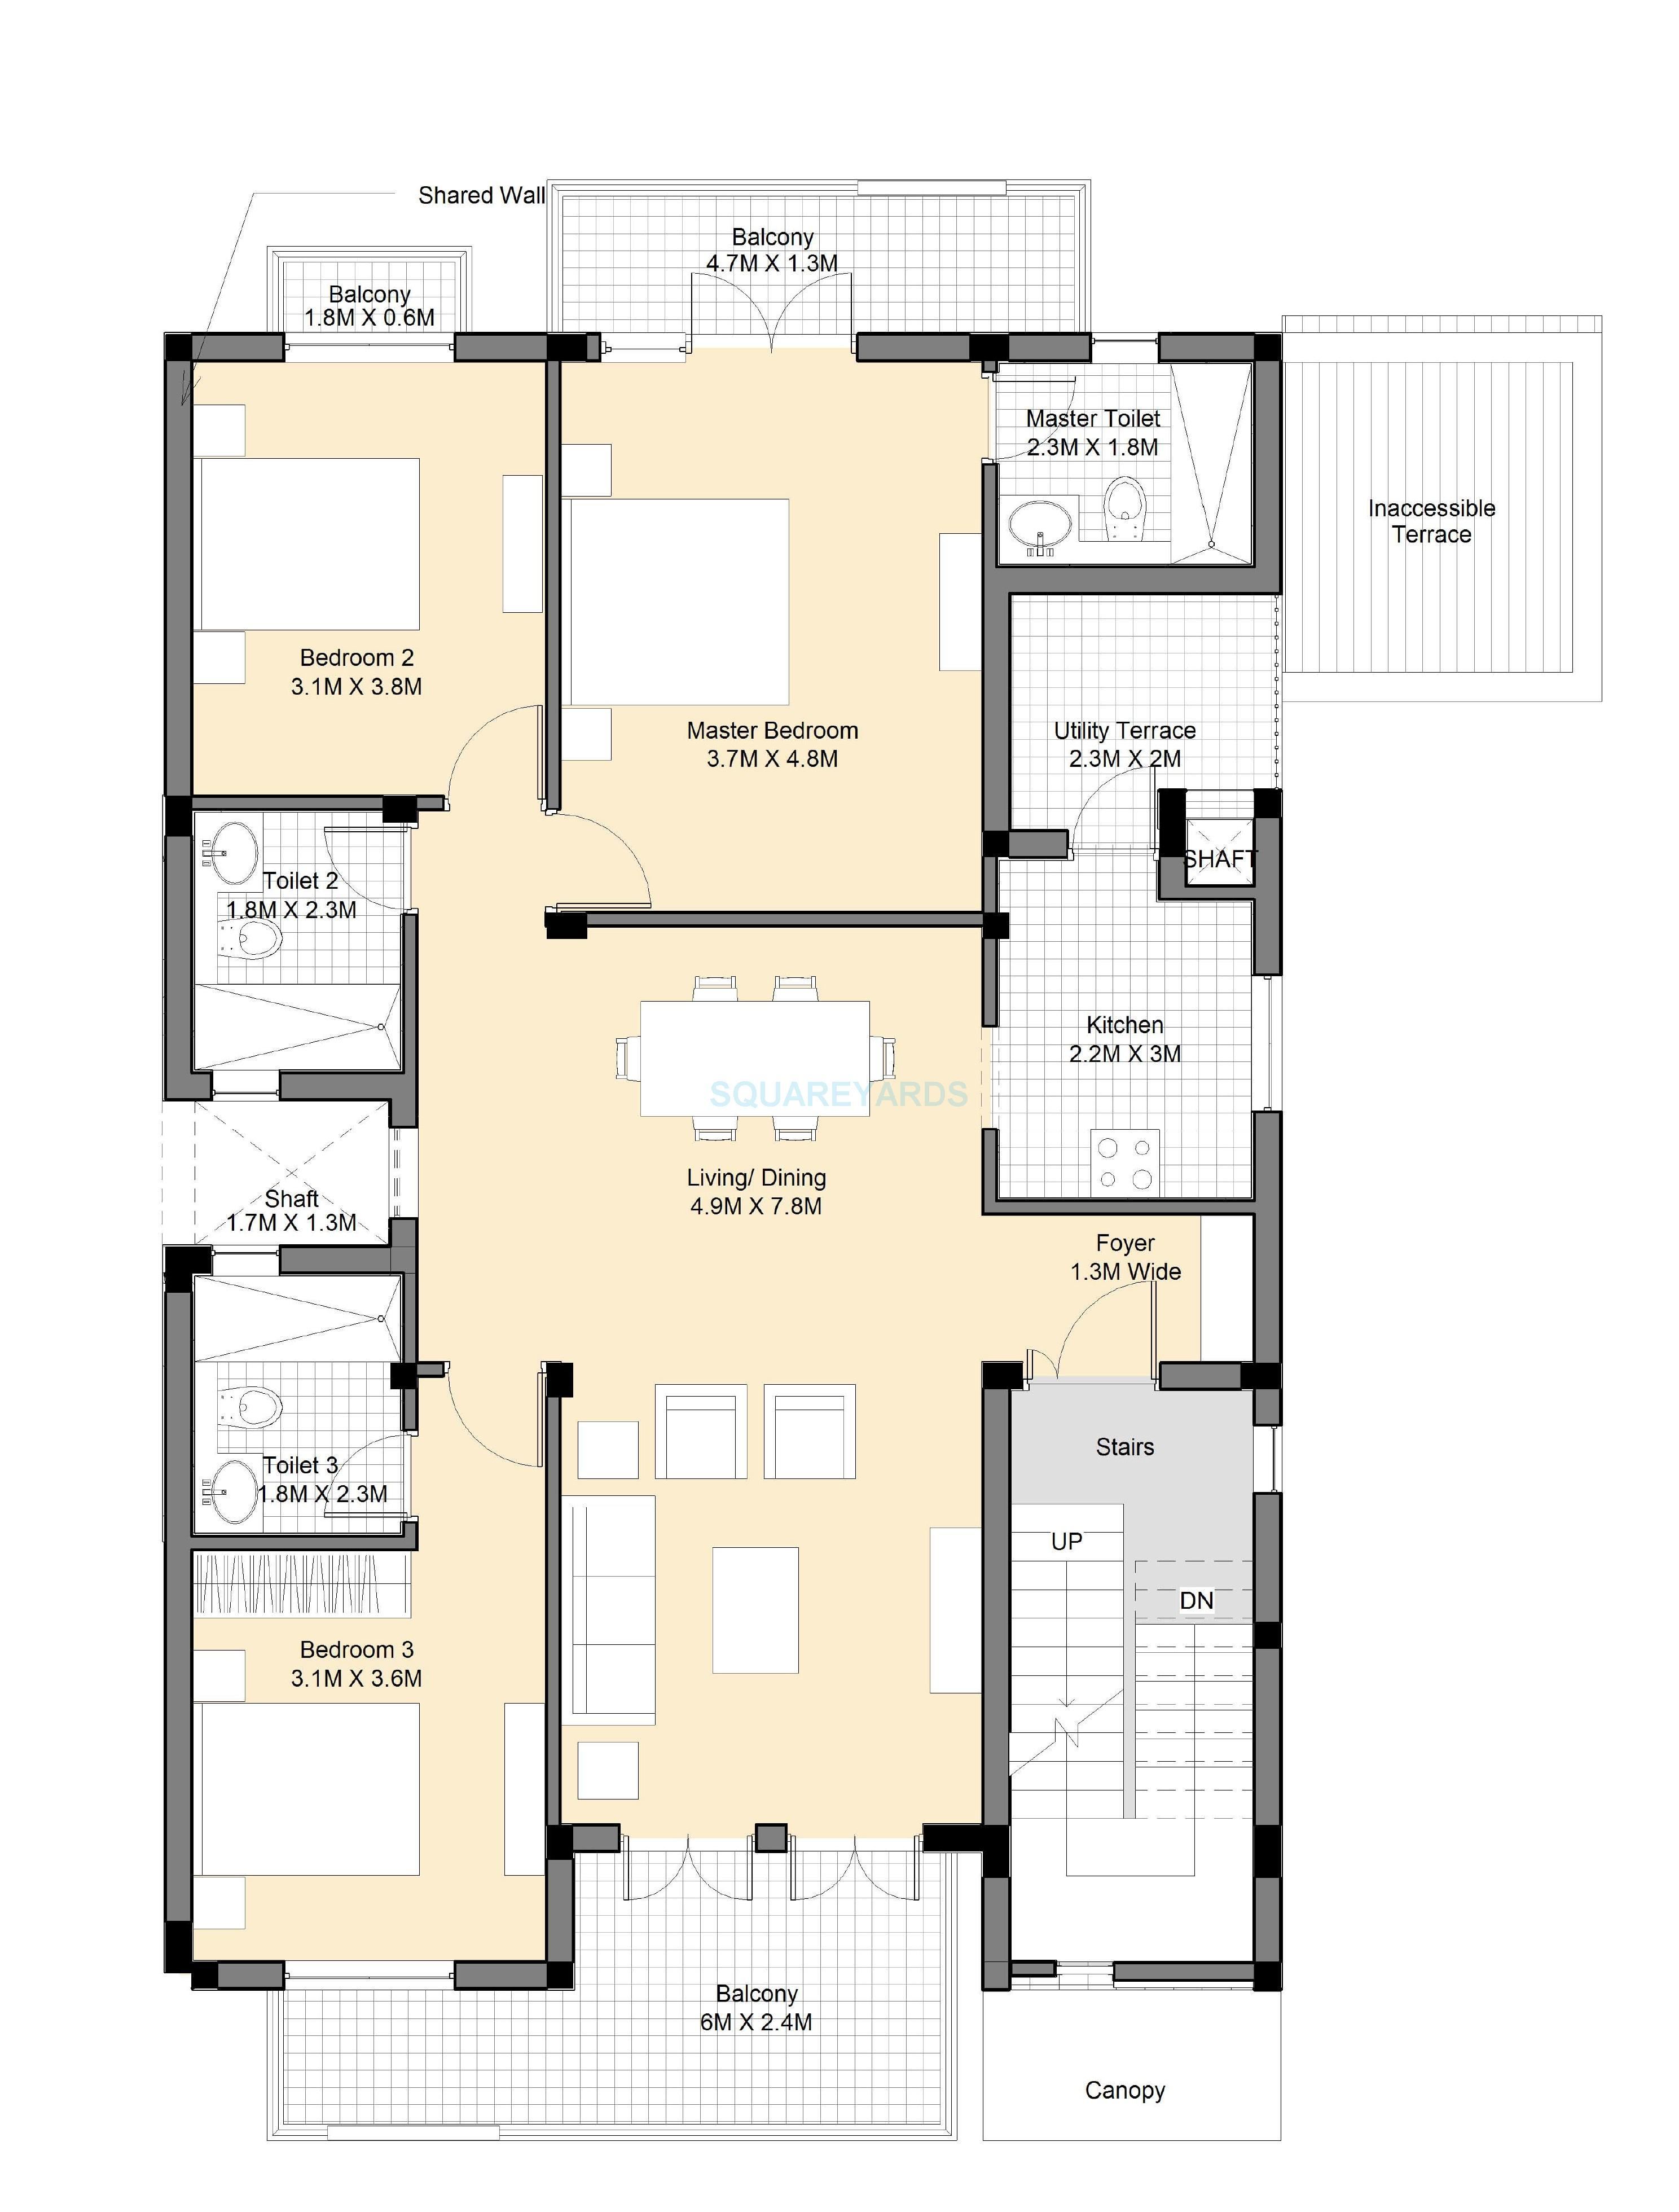door: (434, 695, 548, 796), (432, 1372, 547, 1473), (557, 808, 670, 908)
